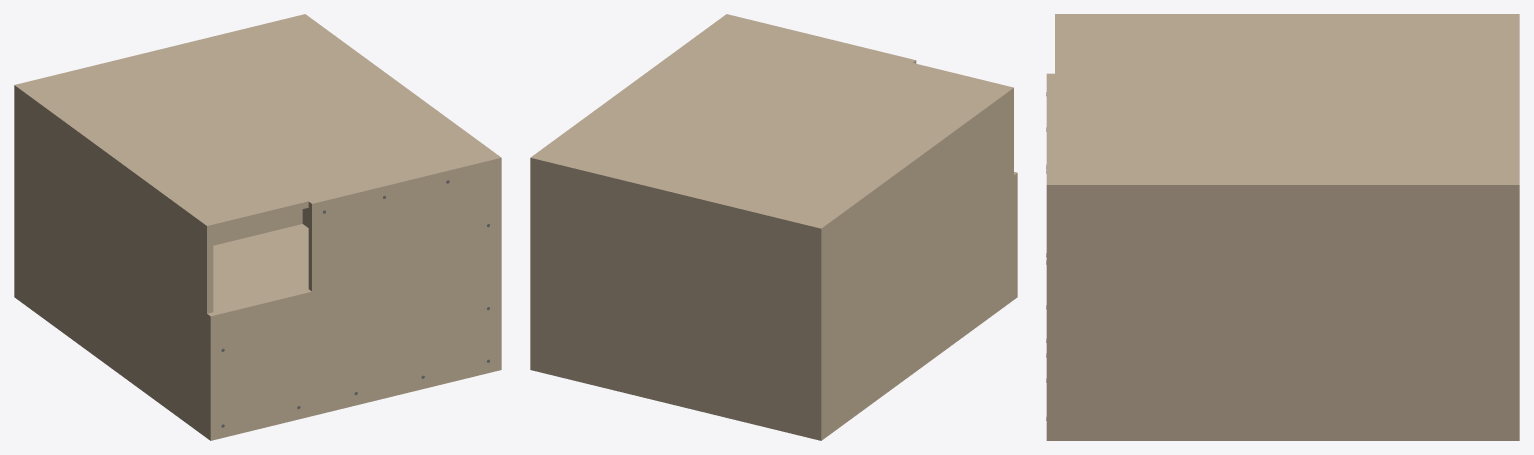
File: Campfire_Aftercare_Woodwork.glb
The picture shows the model from 3 angles, left to right: view 1: azimuth 30°, elevation 25°; view 2: azimuth 150°, elevation 25°; view 3: azimuth 270°, elevation 25°; orthographic projection. The views are drawn at different scales.
Parts seen in each view (by area): view 1: 03_Back_330x371p6x7, 06_Removable_Roof_L_Shaped_Corner_Notch, 04_Left_216x371p6x7, 02_Front_330x371p6x7, 01_Base_330x230x7; view 2: 01_Base_330x230x7, 03_Back_330x371p6x7, 04_Left_216x371p6x7, 02_Front_330x371p6x7, 06_Removable_Roof_L_Shaped_Corner_Notch; view 3: 05_Right_216x371p6x7, 03_Back_330x371p6x7, 01_Base_330x230x7, 02_Front_330x371p6x7, 06_Removable_Roof_L_Shaped_Corner_Notch.
Boxes of the visible parts, left/top/right/bottom form: 03_Back_330x371p6x7: left=18, top=16, right=497, bottom=232; 06_Removable_Roof_L_Shaped_Corner_Notch: left=207, top=155, right=501, bottom=440; 04_Left_216x371p6x7: left=18, top=94, right=213, bottom=431; 02_Front_330x371p6x7: left=18, top=224, right=308, bottom=437; 01_Base_330x230x7: left=14, top=14, right=308, bottom=299; 01_Base_330x230x7: left=530, top=155, right=824, bottom=440; 03_Back_330x371p6x7: left=534, top=16, right=1013, bottom=231; 04_Left_216x371p6x7: left=825, top=94, right=1013, bottom=431; 02_Front_330x371p6x7: left=825, top=294, right=1013, bottom=437; 06_Removable_Roof_L_Shaped_Corner_Notch: left=723, top=14, right=1017, bottom=299; 05_Right_216x371p6x7: left=1055, top=193, right=1511, bottom=433; 03_Back_330x371p6x7: left=1055, top=14, right=1511, bottom=192; 01_Base_330x230x7: left=1511, top=14, right=1519, bottom=440; 02_Front_330x371p6x7: left=1055, top=433, right=1511, bottom=440; 06_Removable_Roof_L_Shaped_Corner_Notch: left=1046, top=73, right=1054, bottom=440.
Bounding box in the file's own units: 0.33 × 0.23 × 0.3859.
